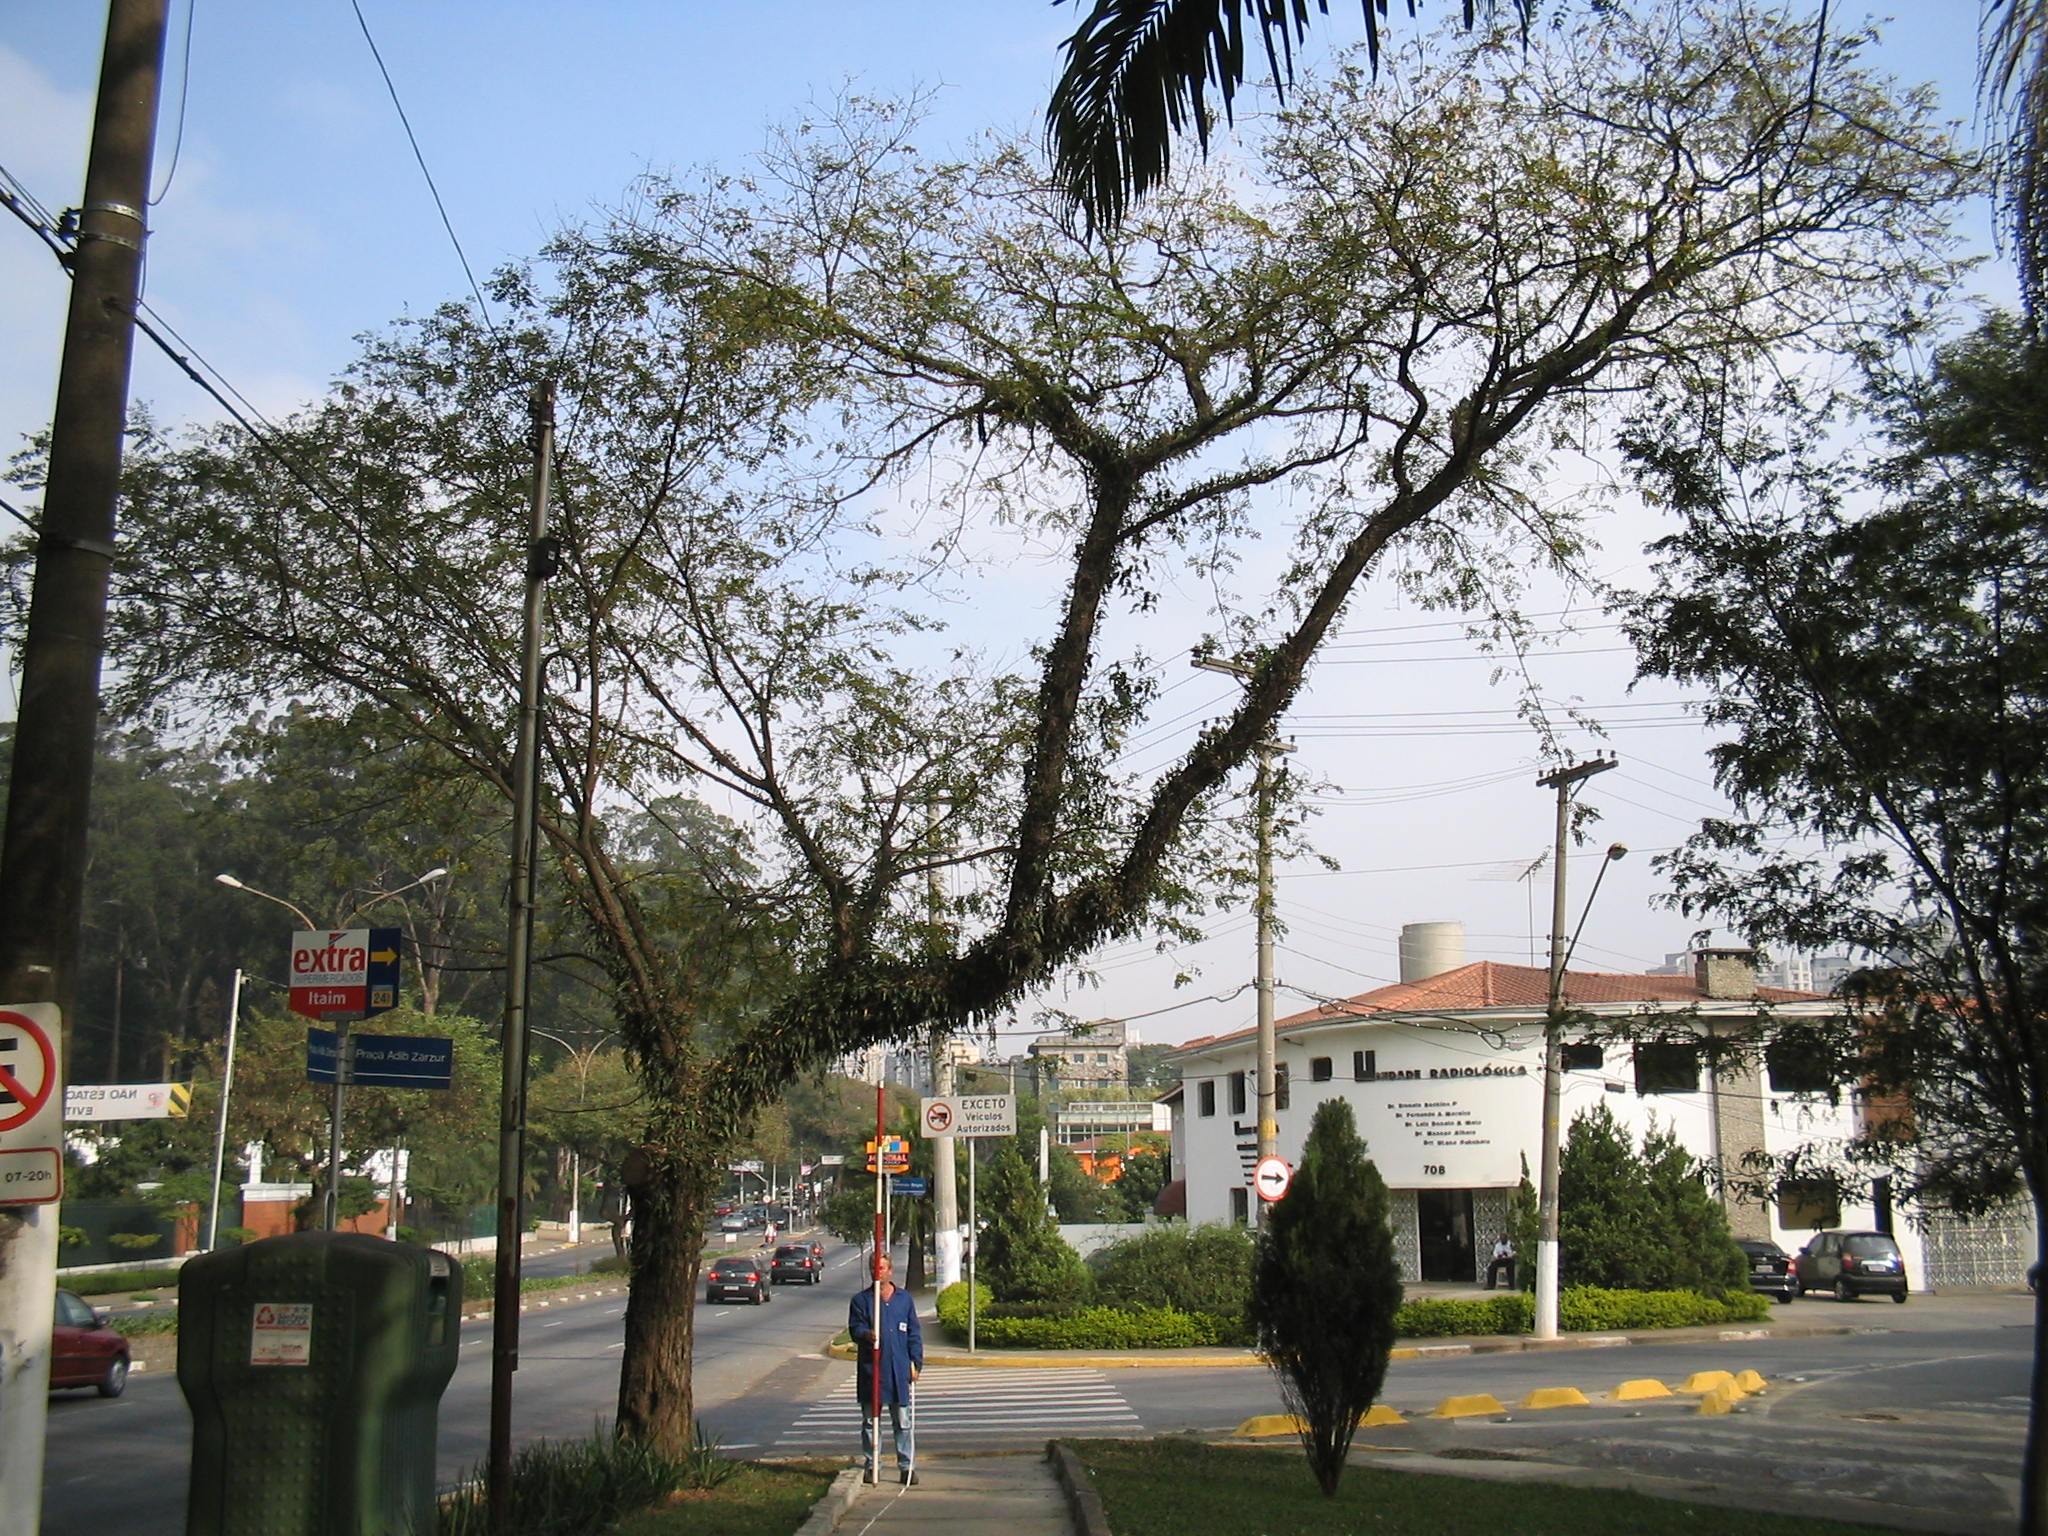stem: (590, 1108, 731, 1476)
stick: (855, 1075, 905, 1484)
tree: (18, 10, 1790, 1481)
